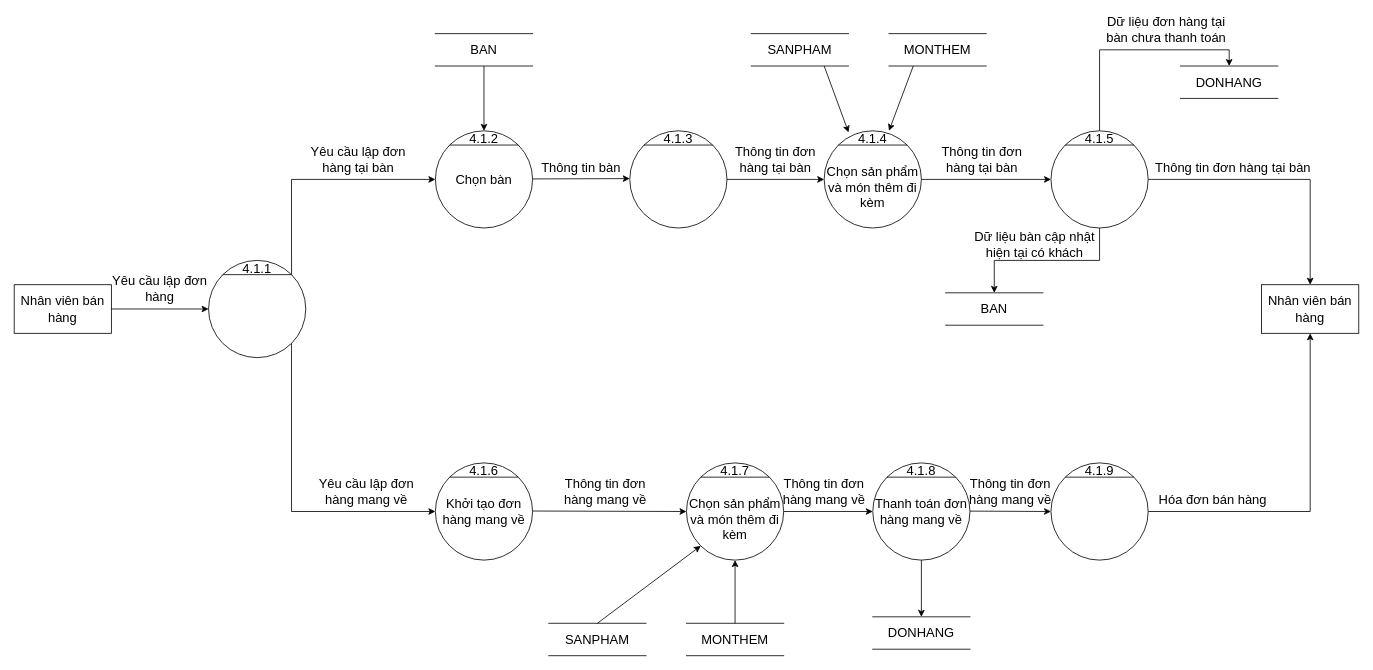
This 1373x670 diagram has some shape labels left out. The shapes that lost their labels are listed below. From the top down, each one's box as (x1, y1, x2, y2) in pixels, then its label:
(629, 130, 727, 228): Khởi tạo đơn hàng tại bàn
(1050, 130, 1148, 228): Lưu đơn hàng tại bàn
(208, 260, 306, 358): Xác định loại đơn hàng muốn lập
(1050, 462, 1148, 560): Xuất hóa đơn
